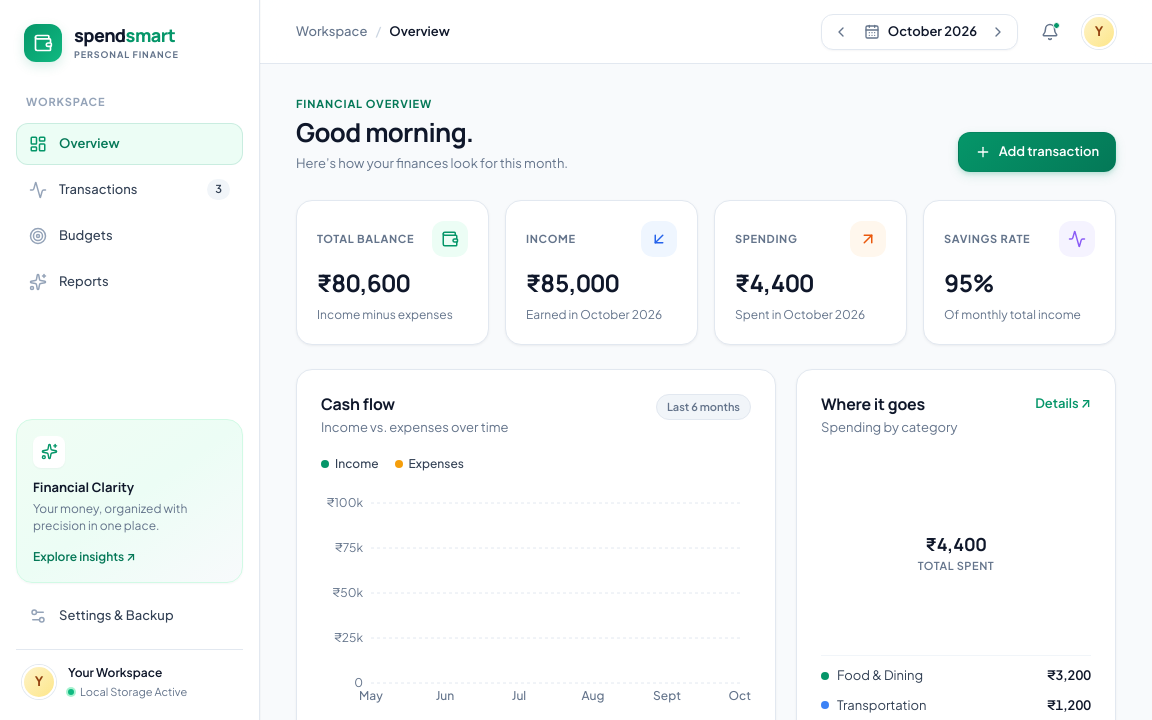
SpendSmart App UI & Interaction Tests › navigates to Budgets page and displays budget metrics
This screenshot has width=1152, height=720.
Click the button "Budgets". click: (130, 236)
box: [16, 214, 243, 256]
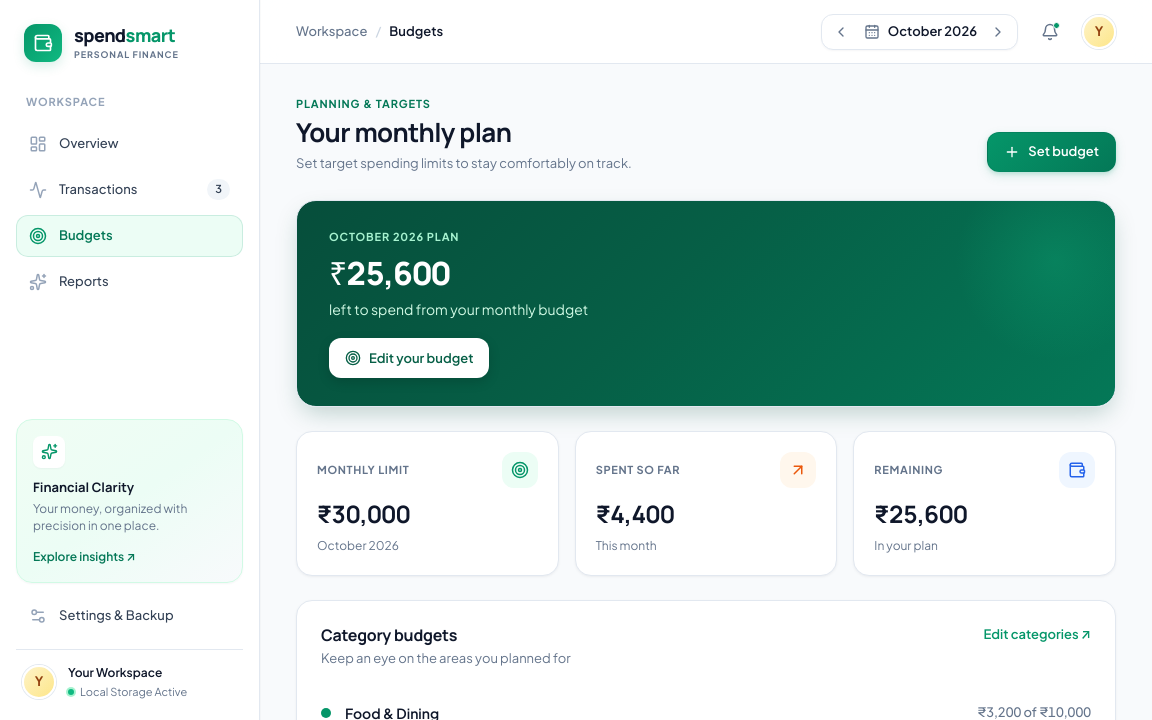
expect the heading "Your monthly plan" is shown: met, box [296, 114, 511, 150]
expect the text "MONTHLY LIMIT" is shown: met, box [317, 462, 409, 479]
expect the text "SPENT SO FAR" is shown: met, box [596, 462, 680, 479]
